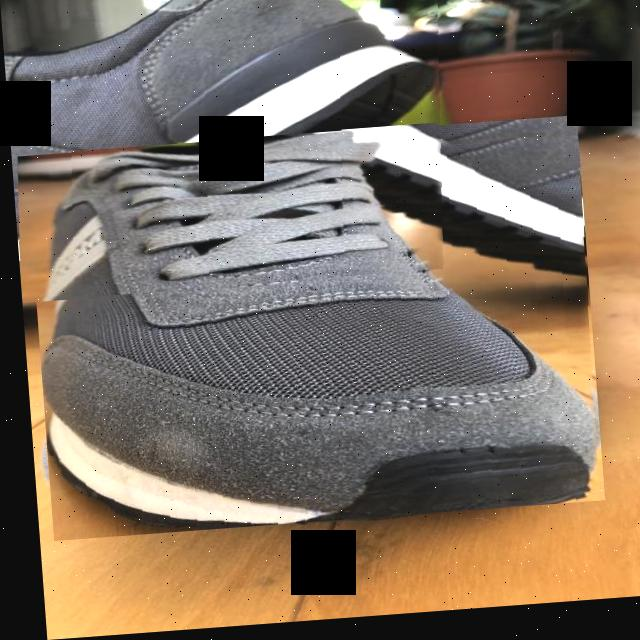shoe: (23, 124, 597, 541), (0, 0, 455, 303)
